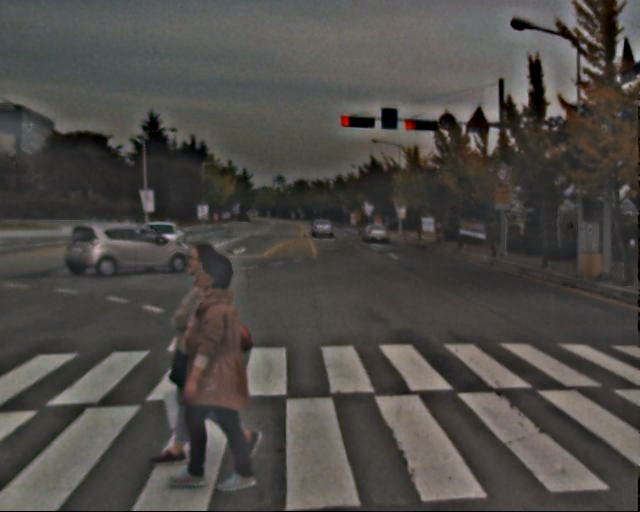person: (170, 253, 270, 488), (163, 240, 262, 457)
